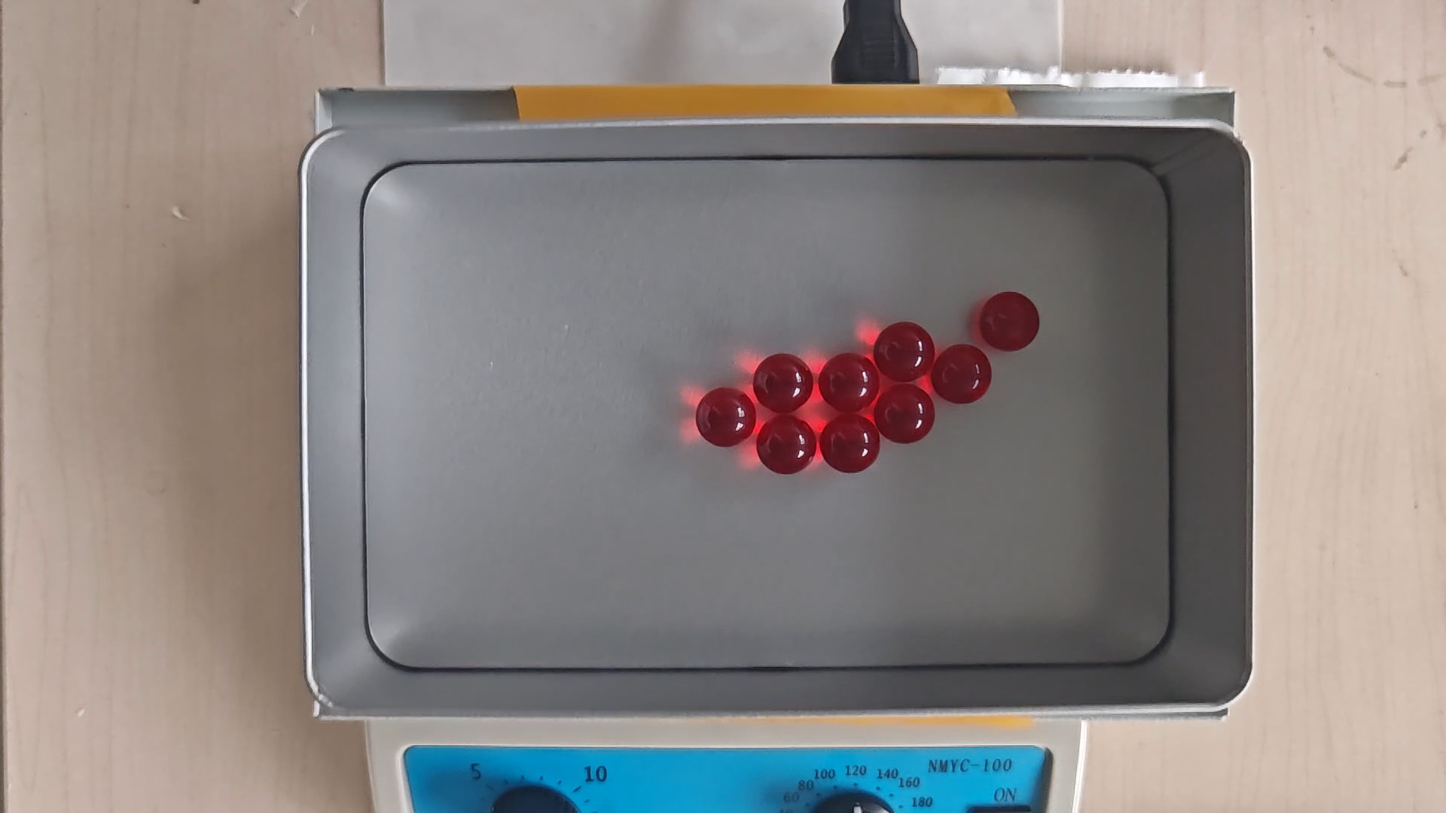ball: (874, 321, 935, 382), (696, 387, 756, 448), (980, 290, 1040, 351), (932, 345, 992, 406), (754, 352, 813, 414), (876, 384, 935, 445), (820, 415, 881, 474), (820, 353, 878, 414), (758, 416, 815, 475)
container: (363, 157, 1170, 669)
